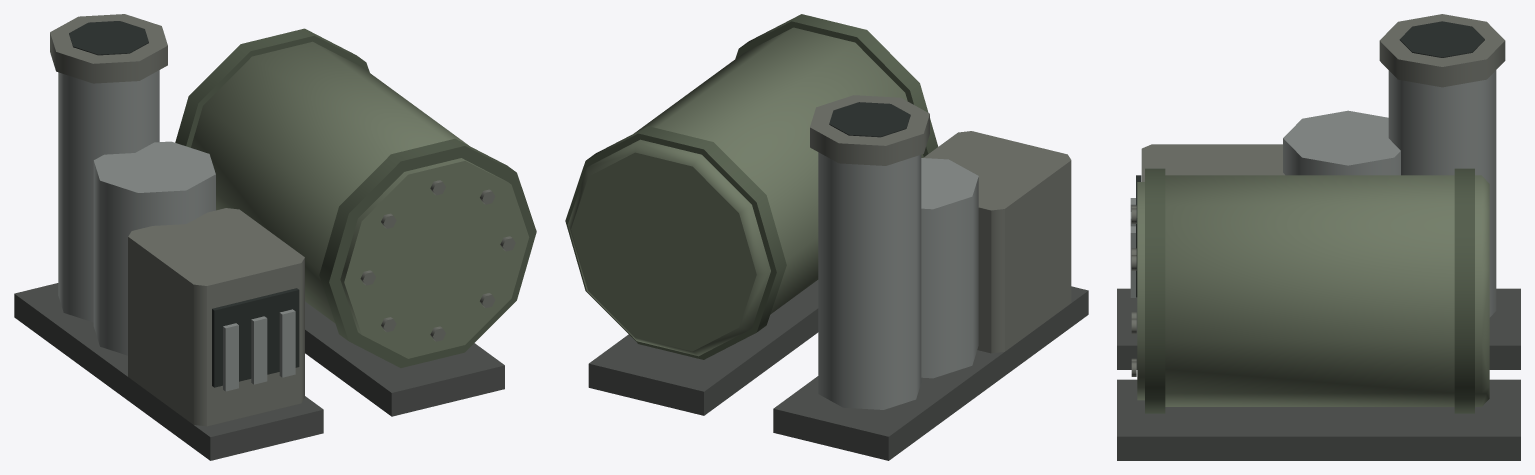
Rendered from wood_fired_generator.obj.
3 renders of one model, left to right at view 1: azimuth 30°, elevation 25°; view 2: azimuth 150°, elevation 25°; view 3: azimuth 270°, elevation 25°, orthographic. The views are drawn at different scales.
Parts seen in each view (by area): view 1: generator_tank, source_part_132, fuel_chamber, secondary_chamber, exhaust_stack, source_part_000, source_part_012, source_part_060, exhaust_rim, fuel_door, source_part_096, exhaust_opening (+3 smaller); view 2: generator_tank, exhaust_stack, fuel_chamber, source_part_000, secondary_chamber, source_part_012, source_part_096, exhaust_rim, source_part_060, exhaust_opening; view 3: generator_tank, source_part_012, exhaust_stack, secondary_chamber, exhaust_rim, source_part_060, source_part_096, fuel_chamber, source_part_000, exhaust_opening, source_part_132.
Part boxes in pixels (box(x1,y1,x2,y2)): generator_tank: box(191, 41, 468, 322); source_part_132: box(340, 158, 529, 358); fuel_chamber: box(128, 208, 304, 426); secondary_chamber: box(93, 141, 215, 355); exhaust_stack: box(58, 70, 159, 322); source_part_000: box(14, 283, 323, 460); source_part_012: box(305, 301, 504, 416); source_part_060: box(319, 138, 536, 367); exhaust_rim: box(50, 14, 167, 83); fuel_door: box(212, 288, 299, 387); source_part_096: box(175, 28, 369, 147); exhaust_opening: box(69, 21, 148, 55); generator_tank: box(568, 27, 923, 356); exhaust_stack: box(818, 152, 921, 409); fuel_chamber: box(923, 131, 1071, 353); source_part_000: box(773, 286, 1088, 460); secondary_chamber: box(921, 158, 978, 378); source_part_012: box(588, 280, 818, 415); source_part_096: box(565, 126, 786, 359); exhaust_rim: box(810, 95, 929, 165); source_part_060: box(735, 14, 938, 156); exhaust_opening: box(829, 102, 910, 137); generator_tank: box(1165, 175, 1489, 406); source_part_012: box(1117, 379, 1520, 460); exhaust_stack: box(1388, 70, 1496, 317); secondary_chamber: box(1283, 110, 1400, 175); exhaust_rim: box(1379, 14, 1505, 87); source_part_060: box(1145, 168, 1165, 413); source_part_096: box(1454, 168, 1474, 413); fuel_chamber: box(1141, 144, 1284, 181); source_part_000: box(1117, 288, 1520, 369); exhaust_opening: box(1399, 21, 1484, 57); source_part_132: box(1137, 182, 1144, 400).
Bounding box in the file's own units: 1.8 × 1.49 × 1.8.
